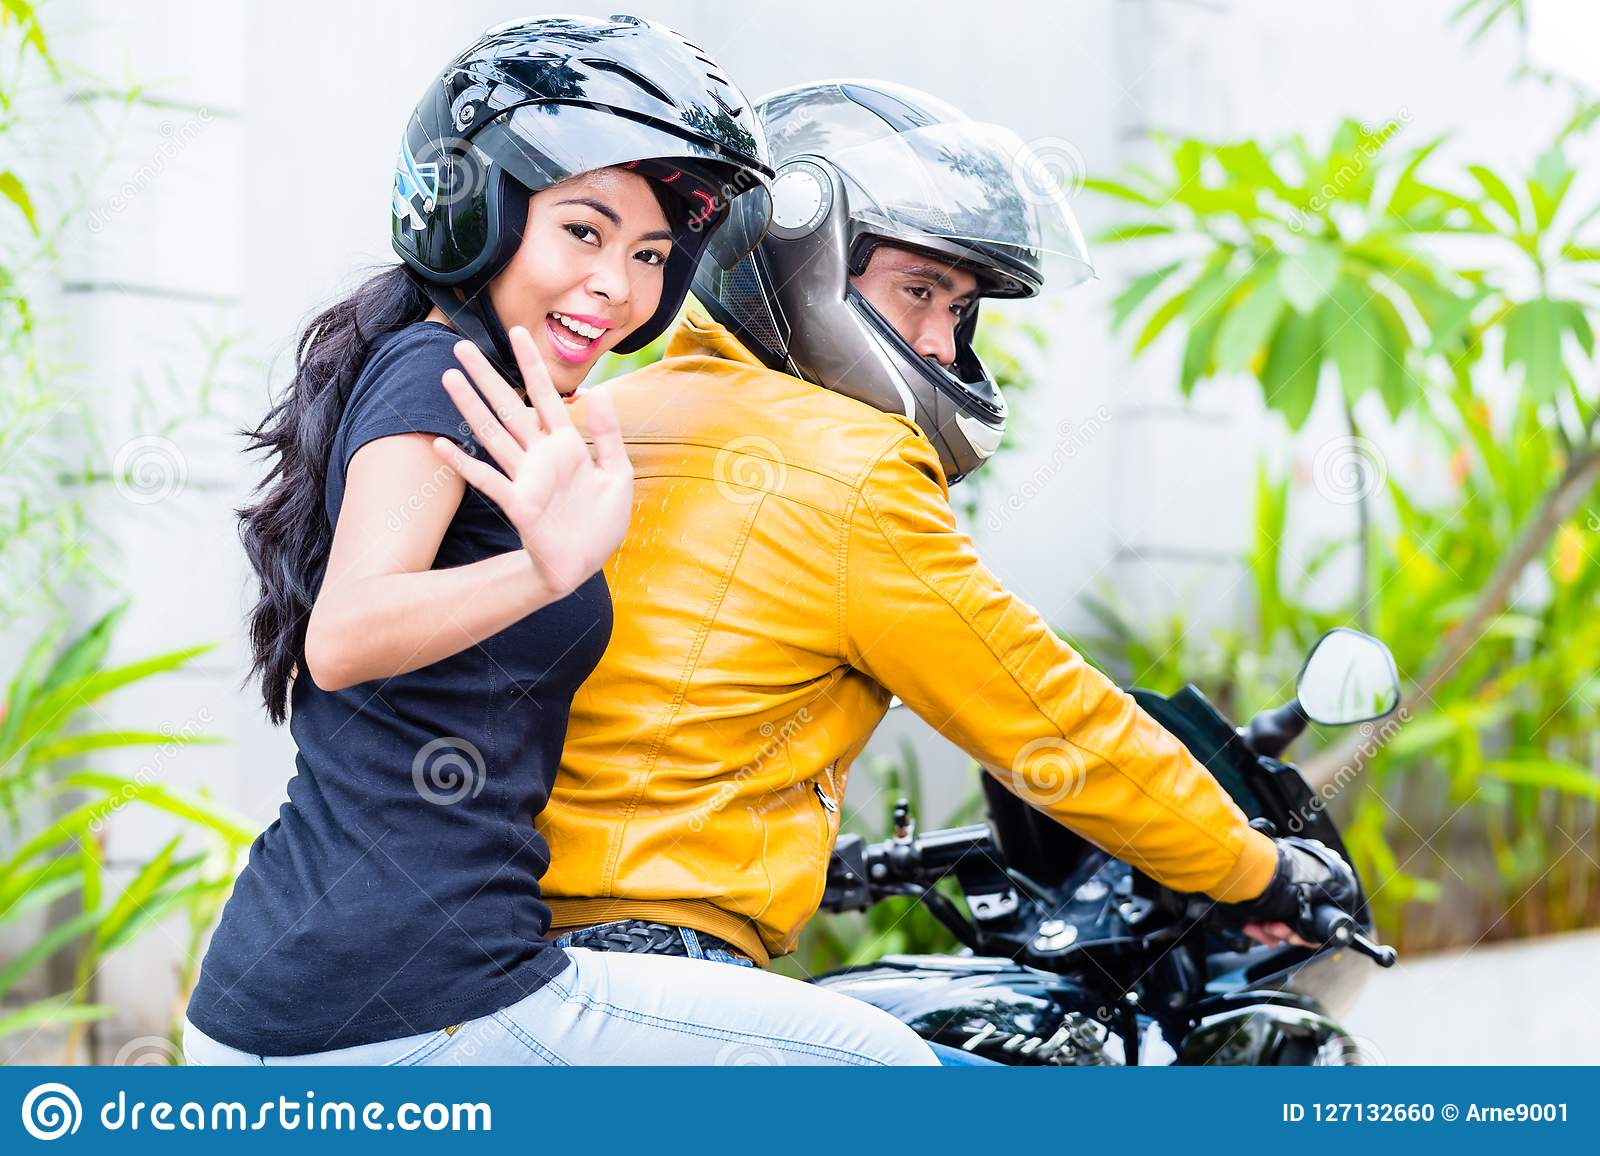helmet: (718, 86, 1043, 466), (385, 17, 748, 343)
